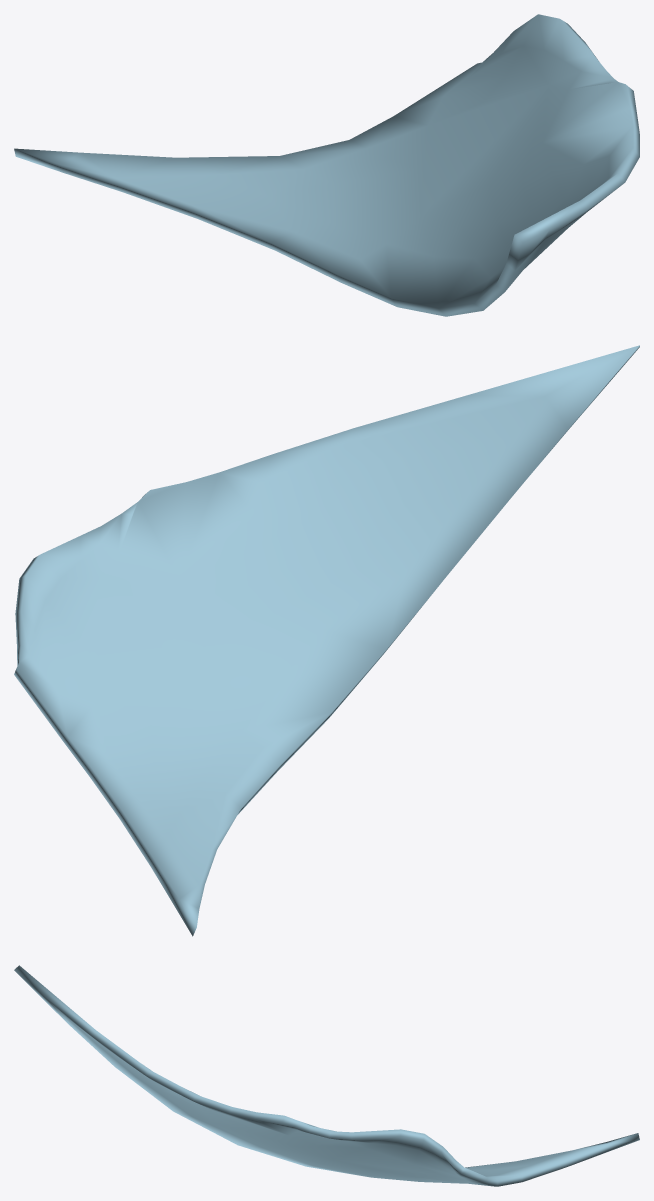
Rendered from articulacoes-transverse-acetabular-ligament-r.glb.
The picture shows the model from 3 angles, top to bottom: view 1: azimuth 30°, elevation 25°; view 2: azimuth 150°, elevation 25°; view 3: azimuth 270°, elevation 25°; orthographic projection. The views are drawn at different scales.
Parts seen in each view (by area): view 1: Transverse acetabular ligament.r; view 2: Transverse acetabular ligament.r; view 3: Transverse acetabular ligament.r.
Boxes of the visible parts, bbox=[...] form: Transverse acetabular ligament.r: bbox=[14, 14, 639, 316]; Transverse acetabular ligament.r: bbox=[14, 345, 639, 936]; Transverse acetabular ligament.r: bbox=[14, 965, 639, 1186].
Size of the model in its own units: 0.018 by 0.0136 by 0.0424.
